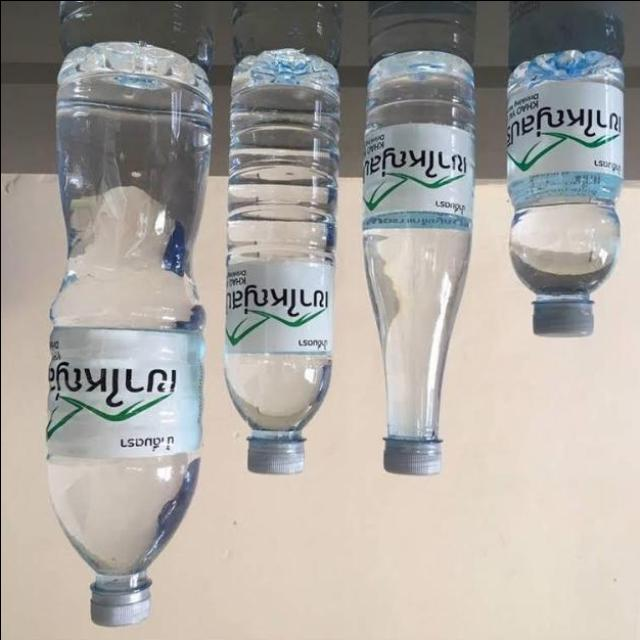plastik: (45, 41, 212, 626), (223, 48, 339, 474), (361, 50, 475, 475), (506, 50, 623, 336)
